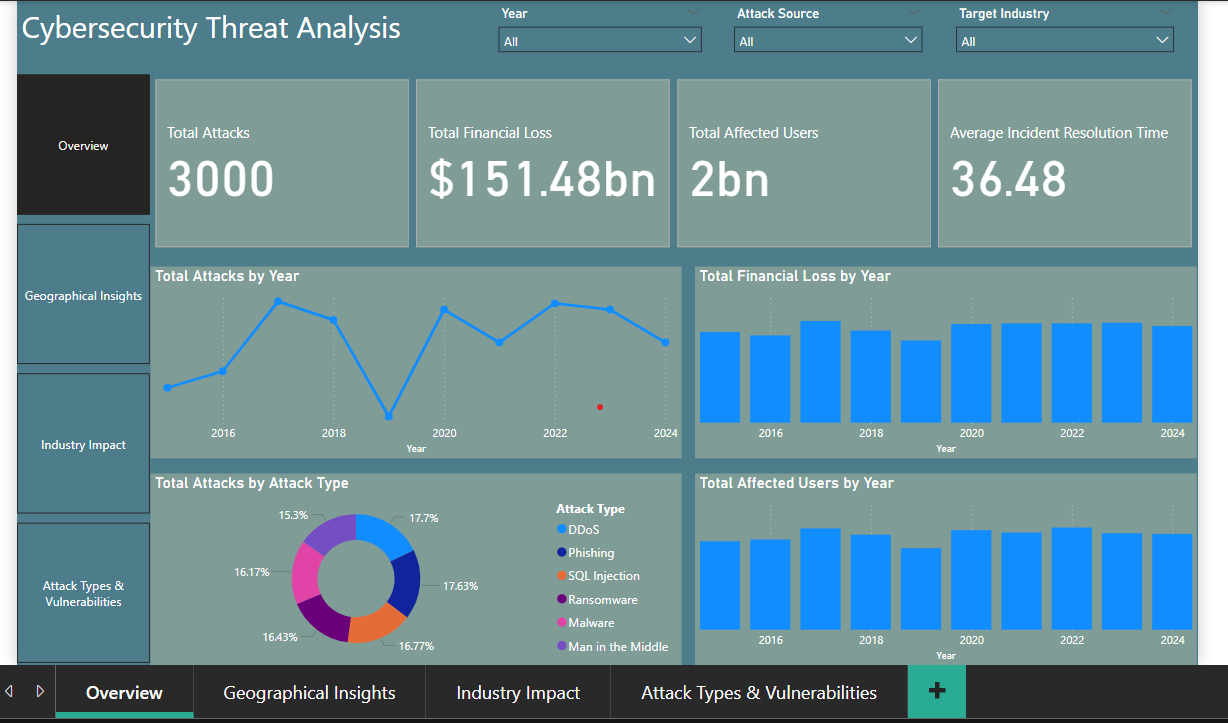

This screenshot's page, from the dashboard's own definition file:
{"tool":"powerbi","page":{"name":"Overview","canvas":[1280,720],"ordinal":0},"visuals":[{"type":"cardVisual","fields":{"Data":["Cyber Security.Total Attacks","Cyber Security.Total Financial Loss","Cyber Security.Total Affected Users","Cyber Security.Average Incident Resolution Time"]},"box":[144,80,1136,192],"z":0},{"type":"lineChart","fields":{"Y":["Cyber Security.Total Attacks"],"Category":["Cyber Security.Year"]},"box":[144,288,576,208],"z":1000},{"type":"donutChart","fields":{"Category":["Cyber Security.Attack Type"],"Y":["Cyber Security.Total Attacks"]},"box":[144,512,576,208],"z":2000},{"type":"lineClusteredColumnComboChart","fields":{"Category":["Cyber Security.Year"],"Y":["Cyber Security.Total Financial Loss"]},"box":[736,288,544,208],"z":3000},{"type":"lineClusteredColumnComboChart","fields":{"Category":["Cyber Security.Year"],"Y":["Cyber Security.Total Affected Users"]},"box":[736,512,544,208],"z":4000},{"type":"pageNavigator","box":[0,80,144,640],"z":5000},{"type":"slicer","fields":{"Values":["Cyber Security.Year"]},"box":[512,0,240,80],"z":6000},{"type":"slicer","fields":{"Values":["Cyber Security.Attack Source"]},"box":[768,0,224,80],"z":7000},{"type":"slicer","fields":{"Values":["Cyber Security.Target Industry"]},"box":[1008,0,256,80],"z":8000},{"type":"textbox","box":[0,0,496,80],"z":9000}]}

Visuals, with their boxes on the page's 1280x720 design canvas (x1, y1, x2, y2). These are canvas units, not pixel positions in the 1228x723 screenshot, which may show the page scaled, cropped or inside an application window:
cardVisual - Cyber Security.Total Attacks x Cyber Security.Total Financial Loss: 144,80,1280,272
lineChart - Cyber Security.Total Attacks x Cyber Security.Year: 144,288,720,496
donutChart - Cyber Security.Attack Type x Cyber Security.Total Attacks: 144,512,720,720
lineClusteredColumnComboChart - Cyber Security.Year x Cyber Security.Total Financial Loss: 736,288,1280,496
lineClusteredColumnComboChart - Cyber Security.Year x Cyber Security.Total Affected Users: 736,512,1280,720
pageNavigator: 0,80,144,720
slicer - Cyber Security.Year: 512,0,752,80
slicer - Cyber Security.Attack Source: 768,0,992,80
slicer - Cyber Security.Target Industry: 1008,0,1264,80
textbox: 0,0,496,80
